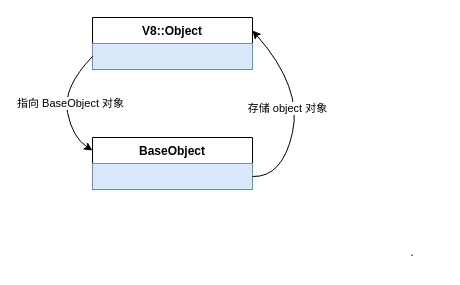
Image size: 460x285. Some labels were removed from this diagram. The shapes that lost their labels are listed below. From the top down, each one's centre as x and y in pixels, then its label:
At [172,56]: "内置字段".
At [172,176]: "- persistent_handle_".
